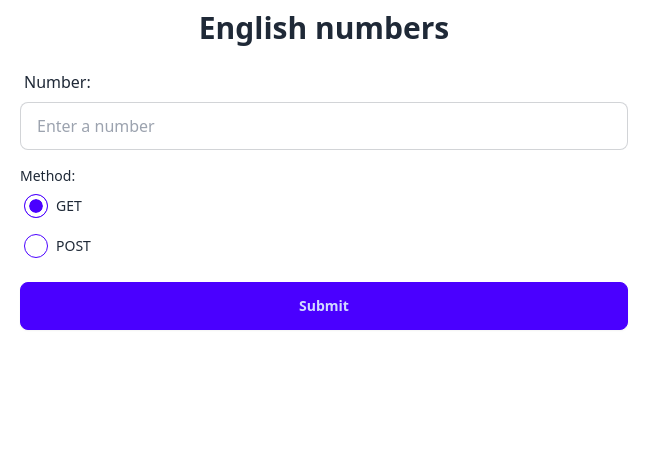
Test: EnglishNumbersPage › should show error message $errorMessage. status: 400
The width and height of the screenshot is (649, 476).
In the number field labelled "Number:": point(324, 126) [20,102,628,150], type "99999999999"
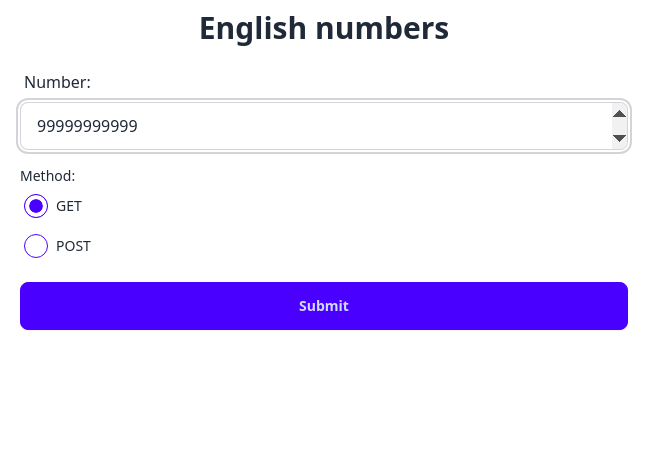
Click the radio button labelled "POST": point(36, 246) [24,234,48,258]
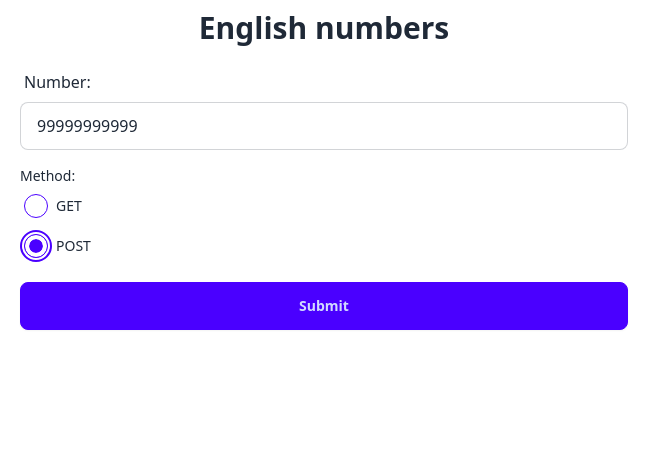
Click the button "Submit": point(324, 306) [20,282,628,330]
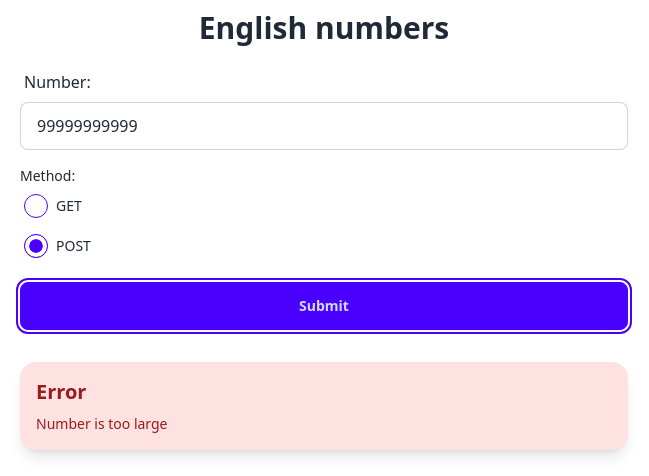
expect the text "Number is too large" is shown: met, box [36,414,168,433]
